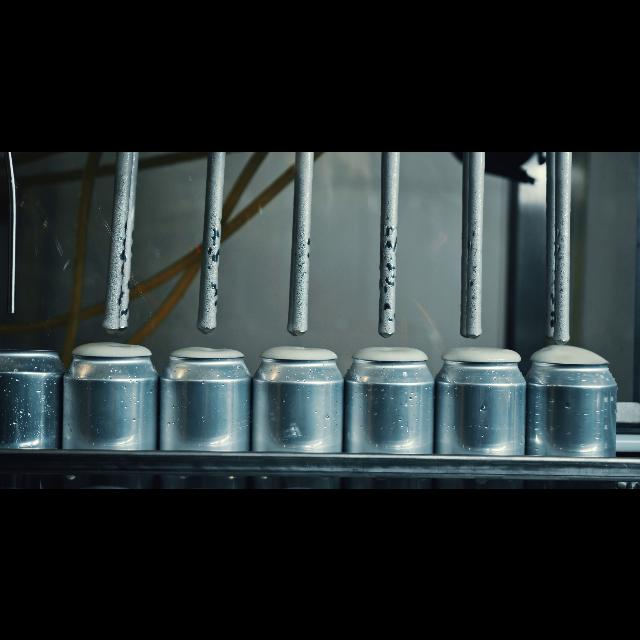empty: (2, 339, 66, 488)
full: (70, 326, 158, 488), (166, 330, 250, 488), (442, 336, 528, 488), (351, 332, 434, 488), (260, 336, 344, 488), (536, 329, 612, 488)
